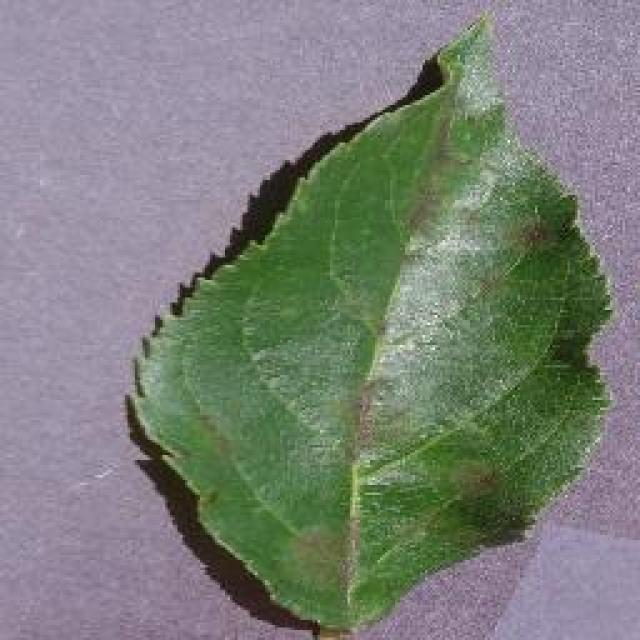apple scab disease: (123, 12, 615, 638)
